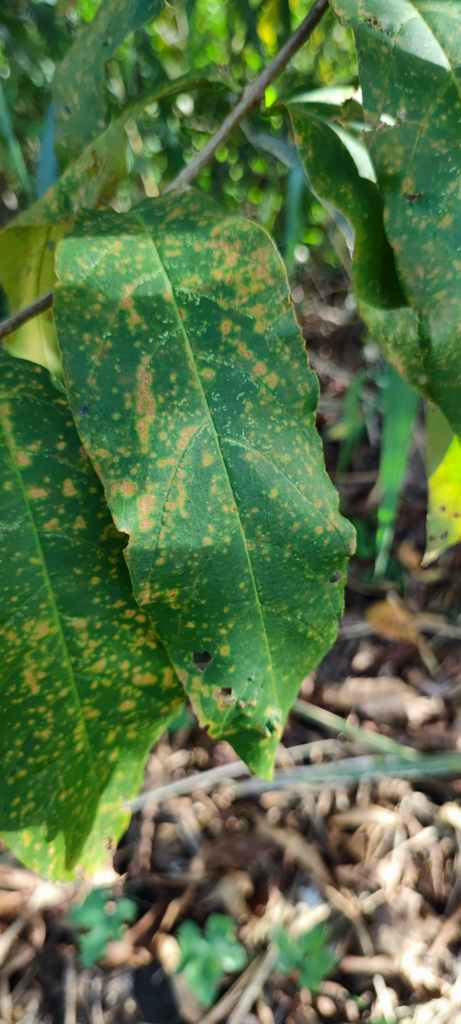frog-eye leafspot: (53, 204, 352, 755), (5, 351, 181, 915), (343, 6, 458, 447)
